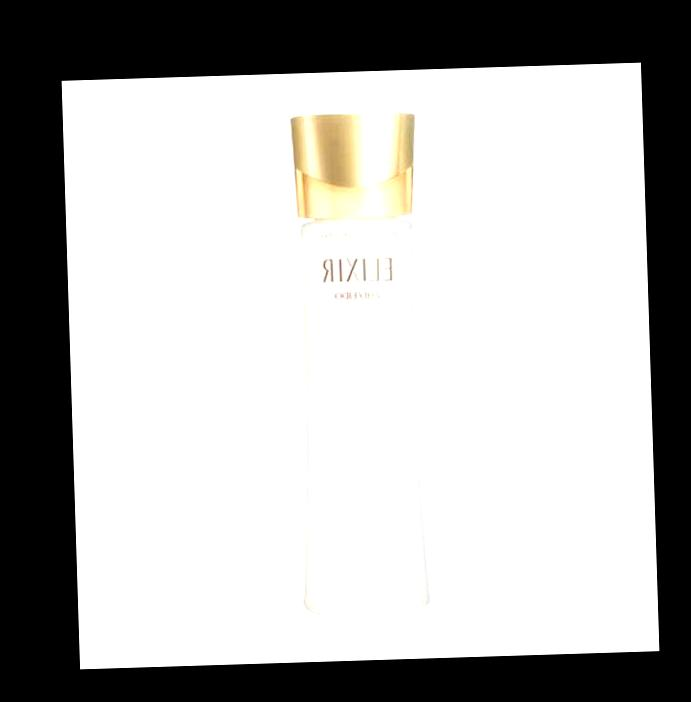cosmetic: (285, 109, 429, 617)
